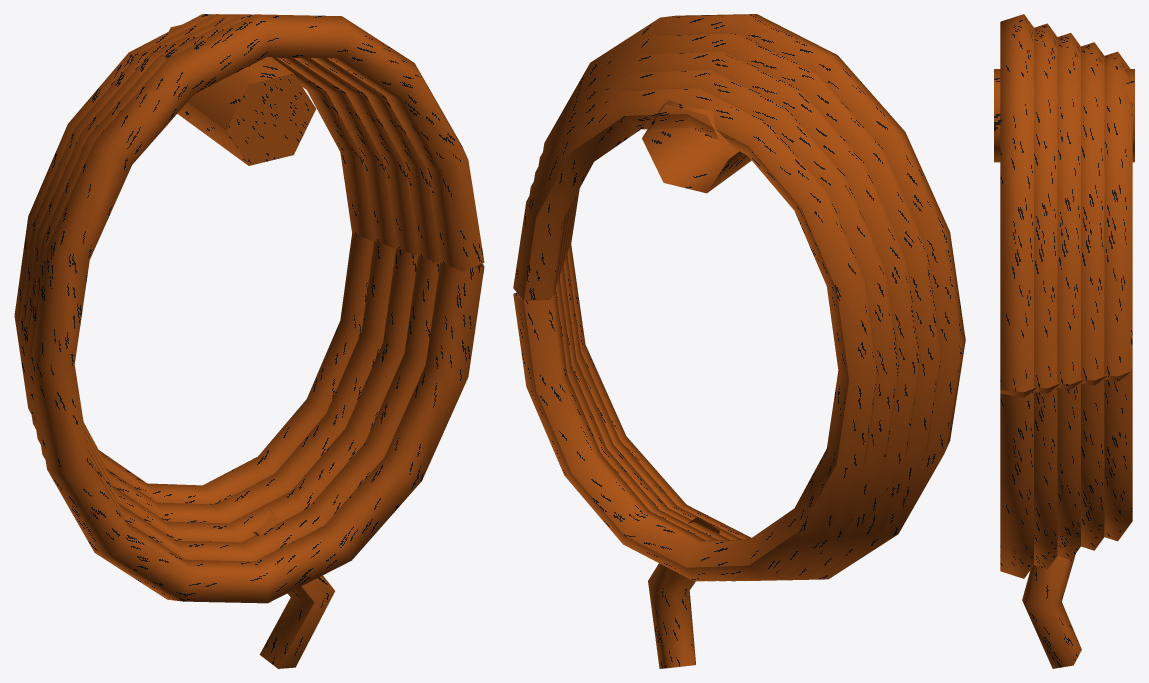
Rendered from item_rope.glb.
3 renders of one model, left to right at view 1: azimuth 30°, elevation 25°; view 2: azimuth 150°, elevation 25°; view 3: azimuth 270°, elevation 25°, orthographic. The views are drawn at different scales.
Visible parts, largest first — view 1: item_rope; view 2: item_rope; view 3: item_rope.
Part boxes in pixels (x1=…): item_rope: x1=14, y1=14, x2=484, y2=668; item_rope: x1=513, y1=14, x2=965, y2=668; item_rope: x1=994, y1=14, x2=1134, y2=668.
Size of the model in its own units: 0.199 by 0.288 by 0.06.
1 material, 1 textured.
